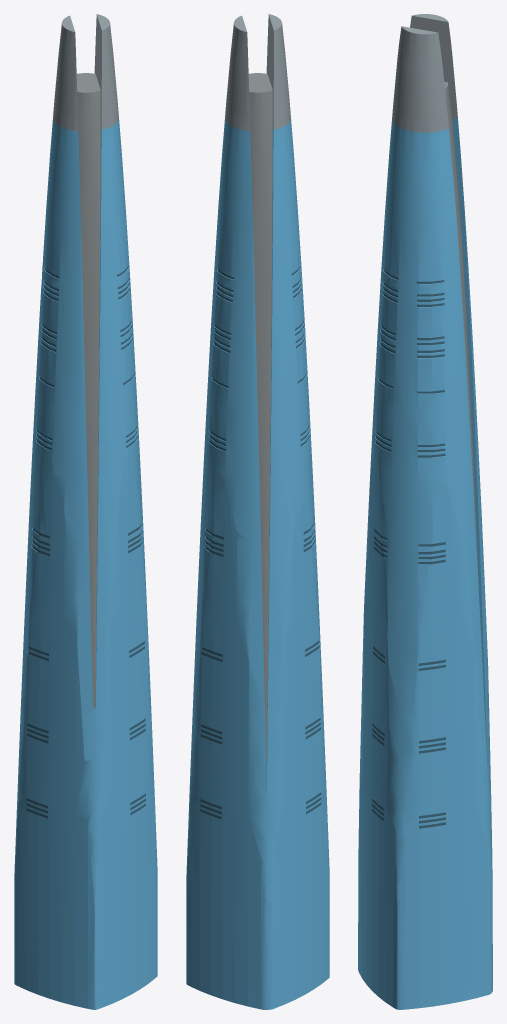
File: seoul.glb
The picture shows the model from 3 angles, left to right: view 1: azimuth 30°, elevation 25°; view 2: azimuth 210°, elevation 25°; view 3: azimuth 270°, elevation 25°; orthographic projection.
Parts seen in each view (by area): view 1: Object_5, Object_3, Object_4, Object_2; view 2: Object_5, Object_3, Object_4, Object_2; view 3: Object_5, Object_4, Object_2, Object_3.
Part boxes in pixels (bbox=[...]): Object_5: bbox=[14, 120, 157, 1009]; Object_3: bbox=[76, 73, 100, 709]; Object_4: bbox=[53, 14, 118, 131]; Object_2: bbox=[26, 266, 145, 818]; Object_5: bbox=[186, 119, 329, 1009]; Object_3: bbox=[248, 73, 272, 773]; Object_4: bbox=[225, 14, 290, 131]; Object_2: bbox=[200, 266, 321, 819]; Object_5: bbox=[358, 118, 492, 1009]; Object_4: bbox=[392, 14, 457, 132]; Object_2: bbox=[372, 269, 445, 828]; Object_3: bbox=[444, 81, 477, 570].
Bounding box in the file's own units: 24.51 × 192 × 24.51.
